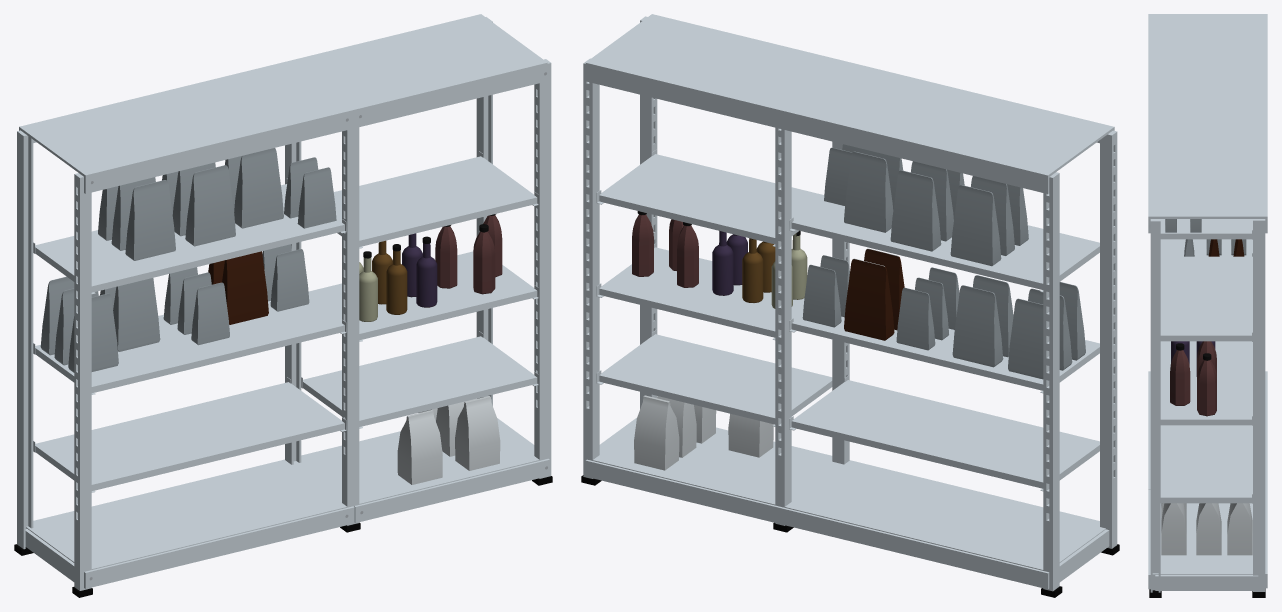
File: LC_3088_Shelf_LOD2.fbx
The picture shows the model from 3 angles, left to right: view 1: azimuth 30°, elevation 25°; view 2: azimuth 150°, elevation 25°; view 3: azimuth 270°, elevation 25°; orthographic projection. The views are drawn at different scales.
Visible parts, largest first — view 1: LC_3088_S_LOD2; view 2: LC_3088_S_LOD2; view 3: LC_3088_S_LOD2.
Boxes of the visible parts, x1=… form: LC_3088_S_LOD2: x1=14, y1=14, x2=552, y2=597; LC_3088_S_LOD2: x1=581, y1=14, x2=1119, y2=597; LC_3088_S_LOD2: x1=1148, y1=14, x2=1267, y2=597.
Size of the model in its own units: 216 by 183 by 52.43.
1 material, 1 textured.
